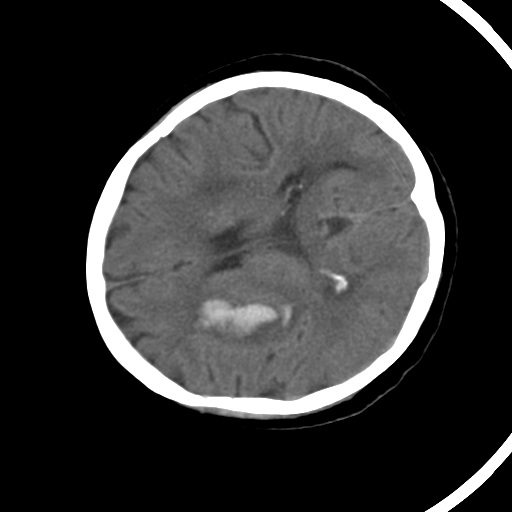a: (176, 286, 311, 351)
